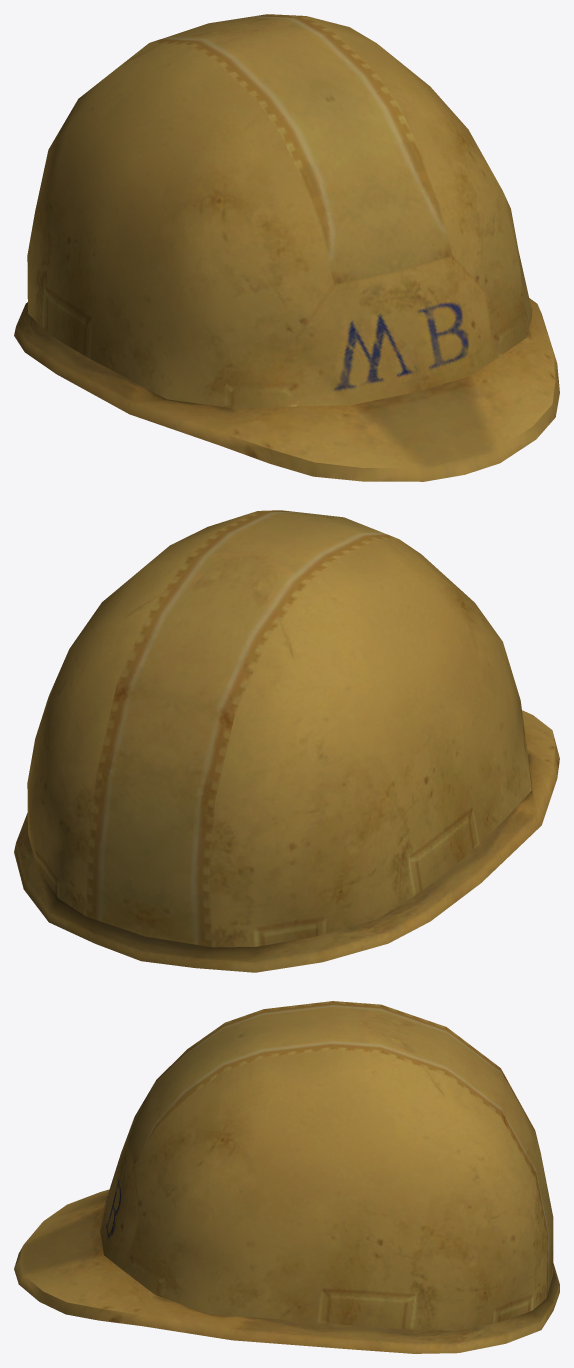
Rendered from helmet.fbx.
3 renders of one model, top to bottom at view 1: azimuth 30°, elevation 25°; view 2: azimuth 150°, elevation 25°; view 3: azimuth 270°, elevation 25°, orthographic. The views are drawn at different scales.
Parts seen in each view (by area): view 1: Object_5.002; view 2: Object_5.002; view 3: Object_5.002.
Boxes of the visible parts, left/top/right/bottom form: Object_5.002: left=14, top=14, right=559, bottom=481; Object_5.002: left=14, top=510, right=559, bottom=972; Object_5.002: left=14, top=1001, right=559, bottom=1353.
Bounding box in the file's own units: 22.03 × 16.91 × 29.09.
Materials: 1 (1 with a texture image).
